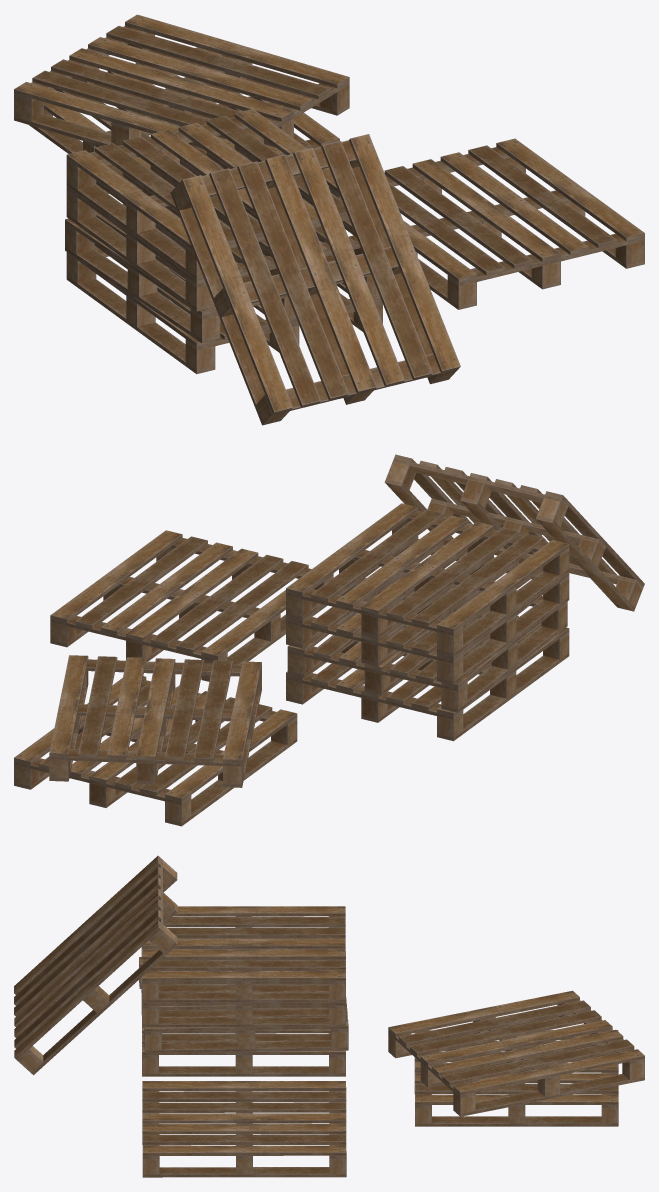
Rendered from pallets.glb.
The picture shows the model from 3 angles, top to bottom: view 1: azimuth 30°, elevation 25°; view 2: azimuth 150°, elevation 25°; view 3: azimuth 270°, elevation 25°; orthographic projection. The views are drawn at different scales.
Visible parts, largest first — view 1: Pallet_03_Pallet_0, Pallet_04_Pallet_0, Pallet_02_Pallet_0, Pallet_01_Pallet_0; view 2: Pallet_04_Pallet_0, Pallet_02_Pallet_0, Pallet_01_Pallet_0, Pallet_03_Pallet_0; view 3: Pallet_04_Pallet_0, Pallet_02_Pallet_0, Pallet_01_Pallet_0, Pallet_03_Pallet_0.
Boxes of the visible parts, x1,y1,x2,y2 form: Pallet_03_Pallet_0: (170,134,460,425); Pallet_04_Pallet_0: (65,109,382,374); Pallet_02_Pallet_0: (14,14,349,196); Pallet_01_Pallet_0: (328,138,644,309); Pallet_04_Pallet_0: (286,503,569,741); Pallet_02_Pallet_0: (14,655,297,826); Pallet_01_Pallet_0: (50,530,333,681); Pallet_03_Pallet_0: (384,454,644,611); Pallet_04_Pallet_0: (139,906,348,1076); Pallet_02_Pallet_0: (388,990,644,1126); Pallet_01_Pallet_0: (142,1081,346,1177); Pallet_03_Pallet_0: (14,855,177,1075).
Size of the model in its own units: 2.43 by 0.9617 by 3.71.
1 material, 1 textured.
